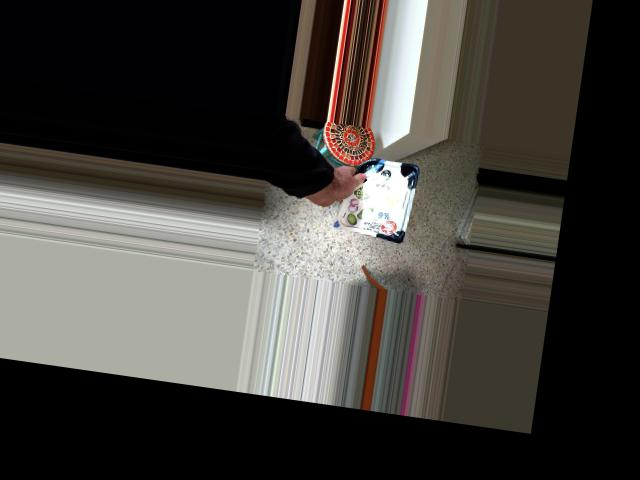cheese: (306, 149, 404, 239)
